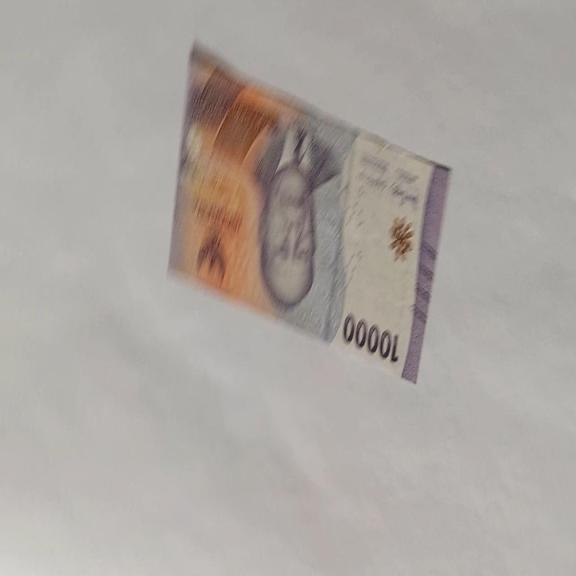Kertas: (166, 39, 453, 386), (342, 312, 400, 365)
